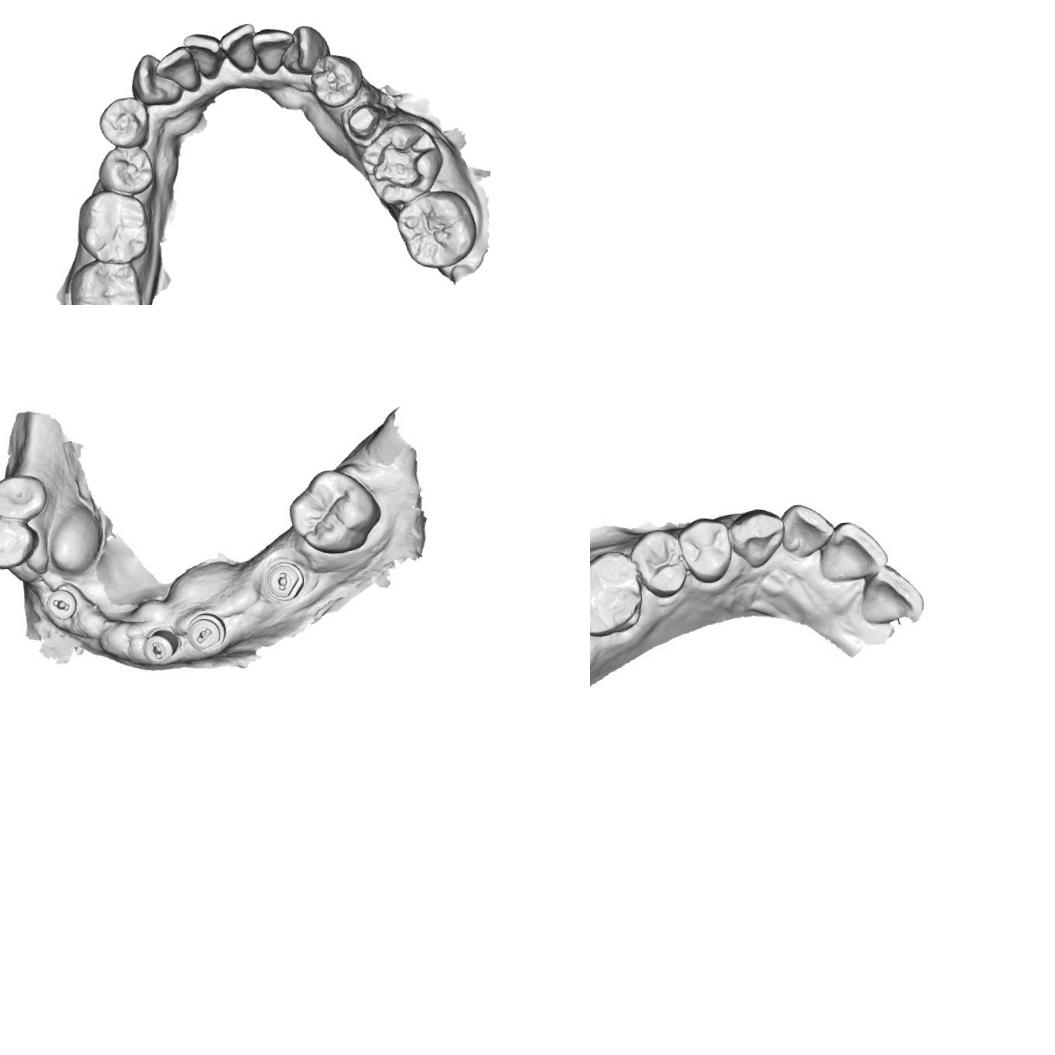canine: (724, 504, 789, 572), (127, 50, 185, 108), (278, 22, 333, 78)
crown: (342, 100, 386, 142)
implant_minus: (261, 556, 307, 605), (183, 608, 227, 653), (140, 625, 181, 666), (42, 584, 80, 623)
incisor: (812, 516, 892, 586), (854, 559, 926, 627), (776, 498, 838, 561), (150, 42, 203, 95), (250, 23, 296, 76), (182, 30, 225, 82), (218, 20, 258, 75)
inlay: (368, 128, 441, 192)
molar: (282, 463, 384, 558), (392, 185, 480, 272), (74, 186, 154, 268), (590, 547, 646, 639), (65, 257, 145, 305)
premolar: (628, 524, 692, 600), (674, 514, 733, 586), (94, 140, 156, 199), (305, 50, 365, 110), (95, 94, 152, 150), (0, 471, 49, 523), (0, 511, 41, 572)
